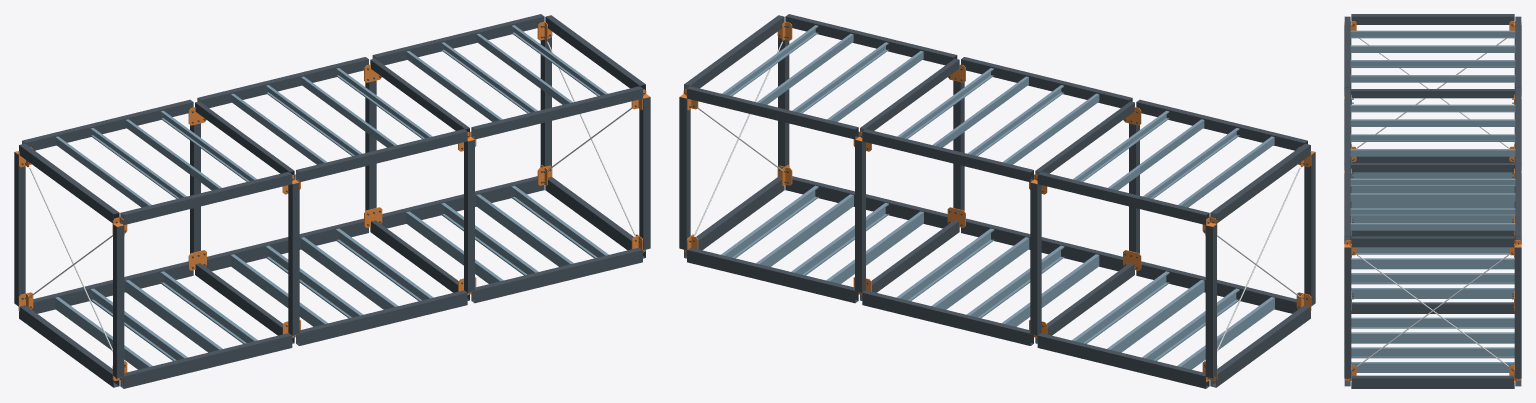
Rendered from structure.glb.
The picture shows the model from 3 angles, left to right: view 1: azimuth 30°, elevation 25°; view 2: azimuth 150°, elevation 25°; view 3: azimuth 270°, elevation 25°; orthographic projection. The views are drawn at different scales.
Parts seen in each view (by area): view 1: MW900_FLOOR_SIDE_B2_S1, MW900_FLOOR_SIDE_B1_S1, MW900_FLOOR_SIDE_B3_S1, MW900_ROOF_SIDE_B3_S1, MW900_ROOF_SIDE_B2_S1, MW900_ROOF_SIDE_B1_S1, MW900_ROOF_SIDE_B3_S2, MW900_ROOF_SIDE_B2_S2, MW900_ROOF_SIDE_B1_S2, MW900_FLOOR_SIDE_B2_S2, MW900_FLOOR_SIDE_B3_S2, MW900_FLOOR_SIDE_B1_S2 (+40 smaller); view 2: MW900_FLOOR_SIDE_B2_S2, MW900_FLOOR_SIDE_B1_S2, MW900_FLOOR_SIDE_B3_S2, MW900_ROOF_SIDE_B3_S2, MW900_ROOF_SIDE_B2_S2, MW900_ROOF_SIDE_B1_S2, MW900_ROOF_SIDE_B3_S1, MW900_ROOF_SIDE_B2_S1, MW900_ROOF_SIDE_B1_S1, MW900_FLOOR_SIDE_B2_S1, MW900_FLOOR_SIDE_B3_S1, MW900_FLOOR_SIDE_B1_S1 (+40 smaller); view 3: MW900_FLOOR_END_E2, MW900_ROOF_END_E2, MW900_FLOOR_JOIST_06, MW900_FLOOR_JOIST_07, MW900_FLOOR_JOIST_09, MW900_FLOOR_JOIST_10, MW900_FLOOR_JOIST_11, MW900_FLOOR_PORTAL_X3, MW900_ROOF_END_E1, MW900_FLOOR_JOIST_08, MW900_FLOOR_JOIST_12, MW900_ROOF_PORTAL_X2 (+32 smaller).
Boxes of the visible parts, box(x1,y1,x2,y2) form: MW900_FLOOR_SIDE_B2_S1: box(296, 290, 467, 345); MW900_FLOOR_SIDE_B1_S1: box(120, 333, 292, 388); MW900_FLOOR_SIDE_B3_S1: box(471, 247, 642, 303); MW900_ROOF_SIDE_B3_S1: box(471, 86, 642, 139); MW900_ROOF_SIDE_B2_S1: box(296, 129, 467, 182); MW900_ROOF_SIDE_B1_S1: box(120, 171, 292, 224); MW900_ROOF_SIDE_B3_S2: box(372, 14, 544, 65); MW900_ROOF_SIDE_B2_S2: box(197, 57, 368, 108); MW900_ROOF_SIDE_B1_S2: box(22, 99, 193, 150); MW900_FLOOR_SIDE_B2_S2: box(205, 218, 368, 271); MW900_FLOOR_SIDE_B3_S2: box(381, 176, 544, 228); MW900_FLOOR_SIDE_B1_S2: box(32, 261, 193, 313); MW900_FLOOR_SIDE_B2_S2: box(862, 290, 1033, 345); MW900_FLOOR_SIDE_B1_S2: box(1037, 333, 1209, 388); MW900_FLOOR_SIDE_B3_S2: box(687, 247, 858, 303); MW900_ROOF_SIDE_B3_S2: box(687, 86, 858, 139); MW900_ROOF_SIDE_B2_S2: box(862, 129, 1033, 182); MW900_ROOF_SIDE_B1_S2: box(1037, 171, 1209, 224); MW900_ROOF_SIDE_B3_S1: box(785, 14, 957, 65); MW900_ROOF_SIDE_B2_S1: box(961, 57, 1132, 108); MW900_ROOF_SIDE_B1_S1: box(1136, 99, 1307, 150); MW900_FLOOR_SIDE_B2_S1: box(961, 218, 1124, 271); MW900_FLOOR_SIDE_B3_S1: box(785, 176, 948, 228); MW900_FLOOR_SIDE_B1_S1: box(1136, 261, 1297, 313); MW900_FLOOR_END_E2: box(1351, 375, 1514, 388); MW900_ROOF_END_E2: box(1351, 236, 1514, 247); MW900_FLOOR_JOIST_06: box(1351, 258, 1514, 269); MW900_FLOOR_JOIST_07: box(1351, 273, 1514, 284); MW900_FLOOR_JOIST_09: box(1351, 317, 1514, 328); MW900_FLOOR_JOIST_10: box(1351, 332, 1514, 343); MW900_FLOOR_JOIST_11: box(1351, 347, 1514, 358); MW900_FLOOR_PORTAL_X3: box(1351, 302, 1514, 313); MW900_ROOF_END_E1: box(1351, 14, 1514, 24); MW900_FLOOR_JOIST_08: box(1351, 288, 1514, 298); MW900_FLOOR_JOIST_12: box(1351, 362, 1514, 372); MW900_ROOF_PORTAL_X2: box(1350, 89, 1515, 98).
Bounding box in the file's own units: 9 × 2.8 × 3.
